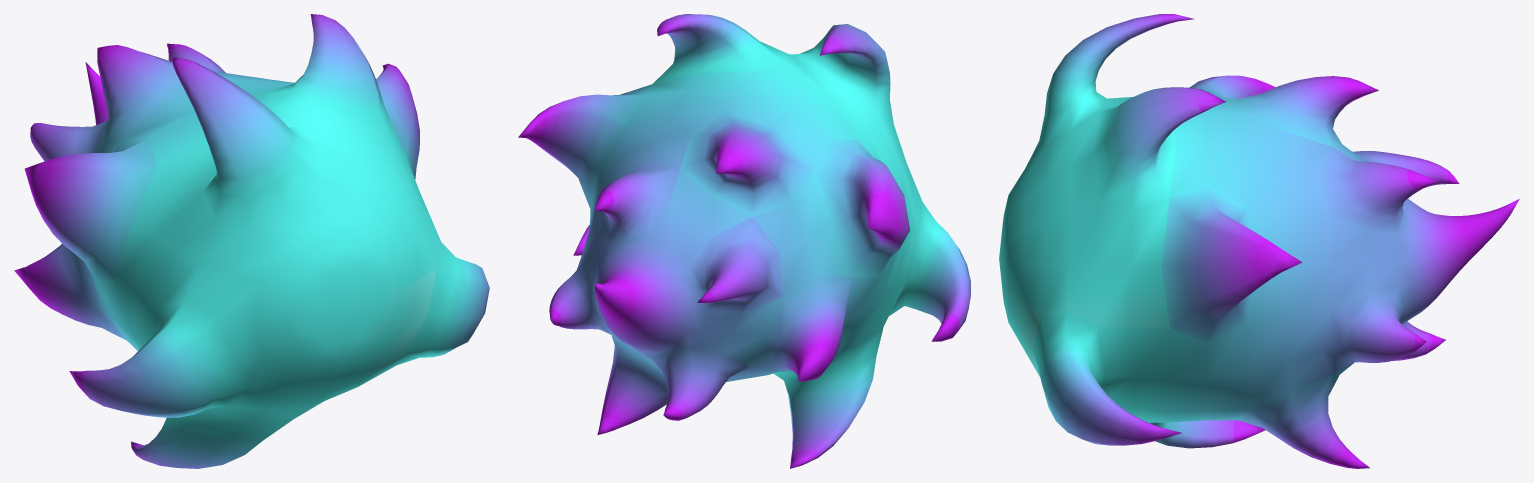
File: REORIENTED_AlienDragonFruit.fbx
3 views of the same model, side by side, from view 1: azimuth 30°, elevation 25°; view 2: azimuth 150°, elevation 25°; view 3: azimuth 270°, elevation 25° (orthographic). The views are drawn at different scales.
Parts seen in each view (by area): view 1: TEXTURED_DragonFruit; view 2: TEXTURED_DragonFruit; view 3: TEXTURED_DragonFruit.
Part boxes in pixels (x1,y1,x2,y2): TEXTURED_DragonFruit: (14, 14, 489, 468); TEXTURED_DragonFruit: (518, 14, 970, 468); TEXTURED_DragonFruit: (999, 14, 1519, 468).
Bounding box in the file's own units: 253 × 260 × 288.
Materials: 1 (1 with a texture image).
